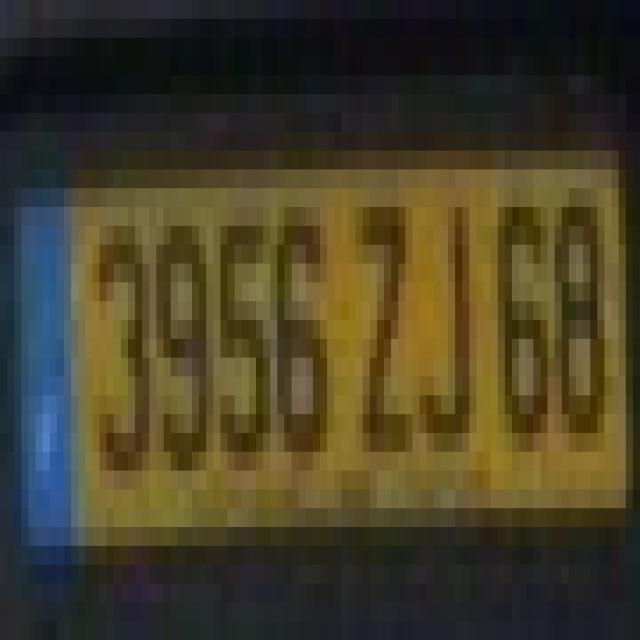Autre: (16, 169, 626, 541)
